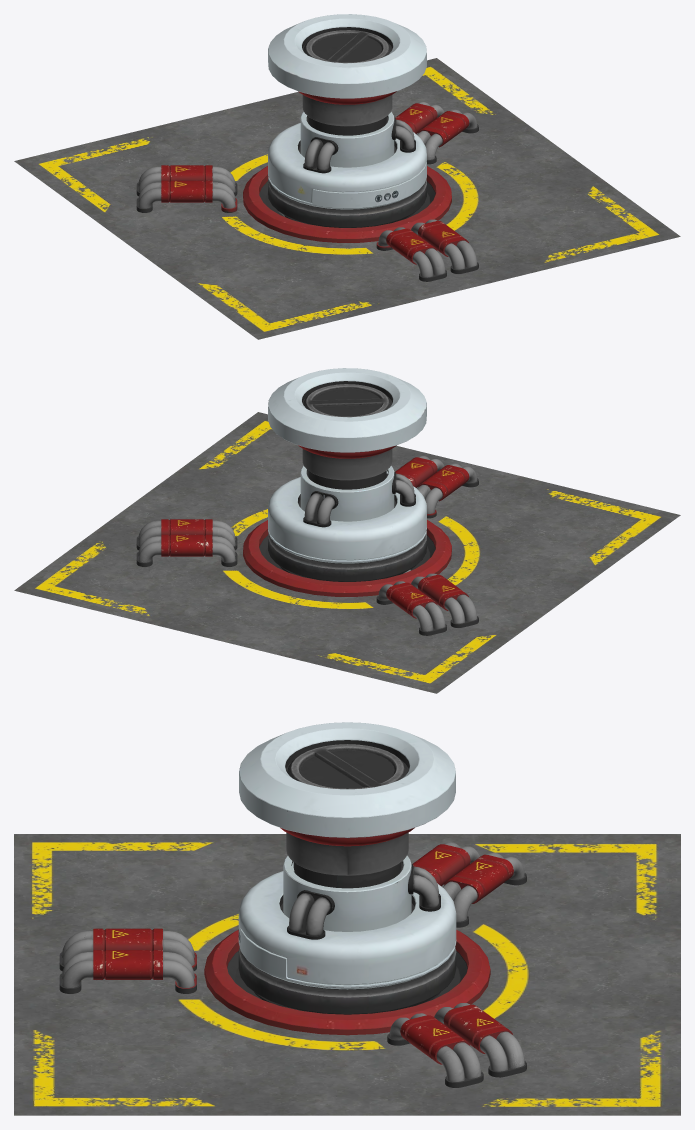
File: quantum_generator.glb
3 views of the same model, one above another, from view 1: azimuth 30°, elevation 25°; view 2: azimuth 150°, elevation 25°; view 3: azimuth 270°, elevation 25° (orthographic). The views are drawn at different scales.
Visible parts, largest first — view 1: defaultMaterial (×3); view 2: defaultMaterial (×3); view 3: defaultMaterial (×3).
Boxes of the visible parts, x1=… form: defaultMaterial (×3): x1=14, y1=14, x2=680, y2=339; defaultMaterial (×3): x1=14, y1=368, x2=680, y2=693; defaultMaterial (×3): x1=14, y1=722, x2=680, y2=1115.
Size of the model in its own units: 9.21 by 3.35 by 9.21.
Materials: 3 (3 with a texture image).
